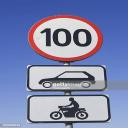speed_limit_100: (28, 14, 104, 63)
